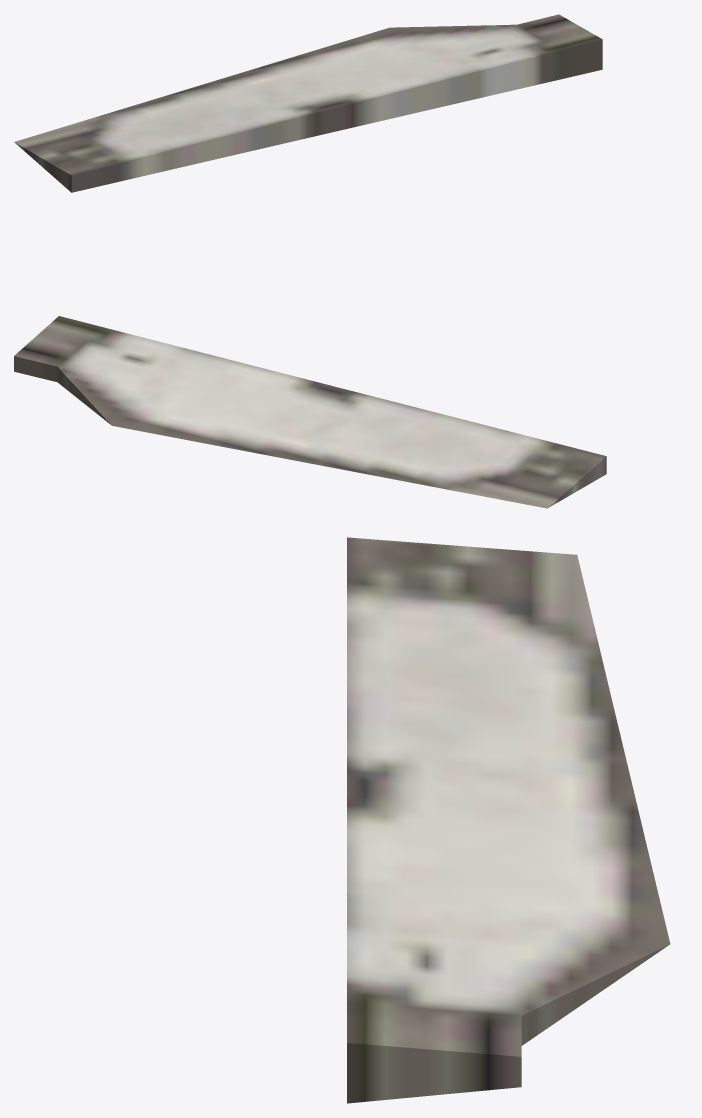
File: Gate_02_Derelict_10_0.glb
3 renders of one model, top to bottom at view 1: azimuth 30°, elevation 25°; view 2: azimuth 150°, elevation 25°; view 3: azimuth 270°, elevation 25°, orthographic. The views are drawn at different scales.
Visible parts, largest first — view 1: Gate_02_Derelict_10; view 2: Gate_02_Derelict_10; view 3: Gate_02_Derelict_10.
Part boxes in pixels (left/top/right/bottom): Gate_02_Derelict_10: left=14, top=14, right=602, bottom=192; Gate_02_Derelict_10: left=14, top=316, right=606, bottom=508; Gate_02_Derelict_10: left=347, top=537, right=670, bottom=1103.
Bounding box in the file's own units: 4.97 × 0.2681 × 2.56.
2 materials, 2 textured.
